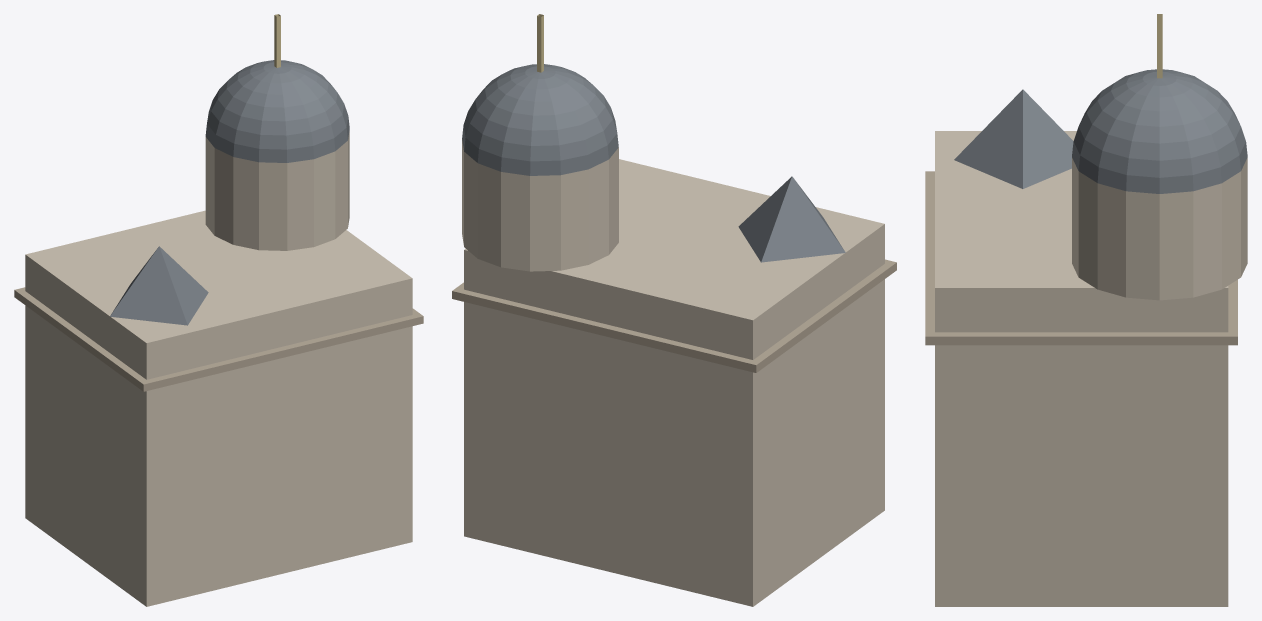
Rendered from metropolis.glb.
3 renders of one model, left to right at view 1: azimuth 30°, elevation 25°; view 2: azimuth 150°, elevation 25°; view 3: azimuth 270°, elevation 25°, orthographic. The views are drawn at different scales.
Bounding box in the file's own units: 42 × 64 × 33.
